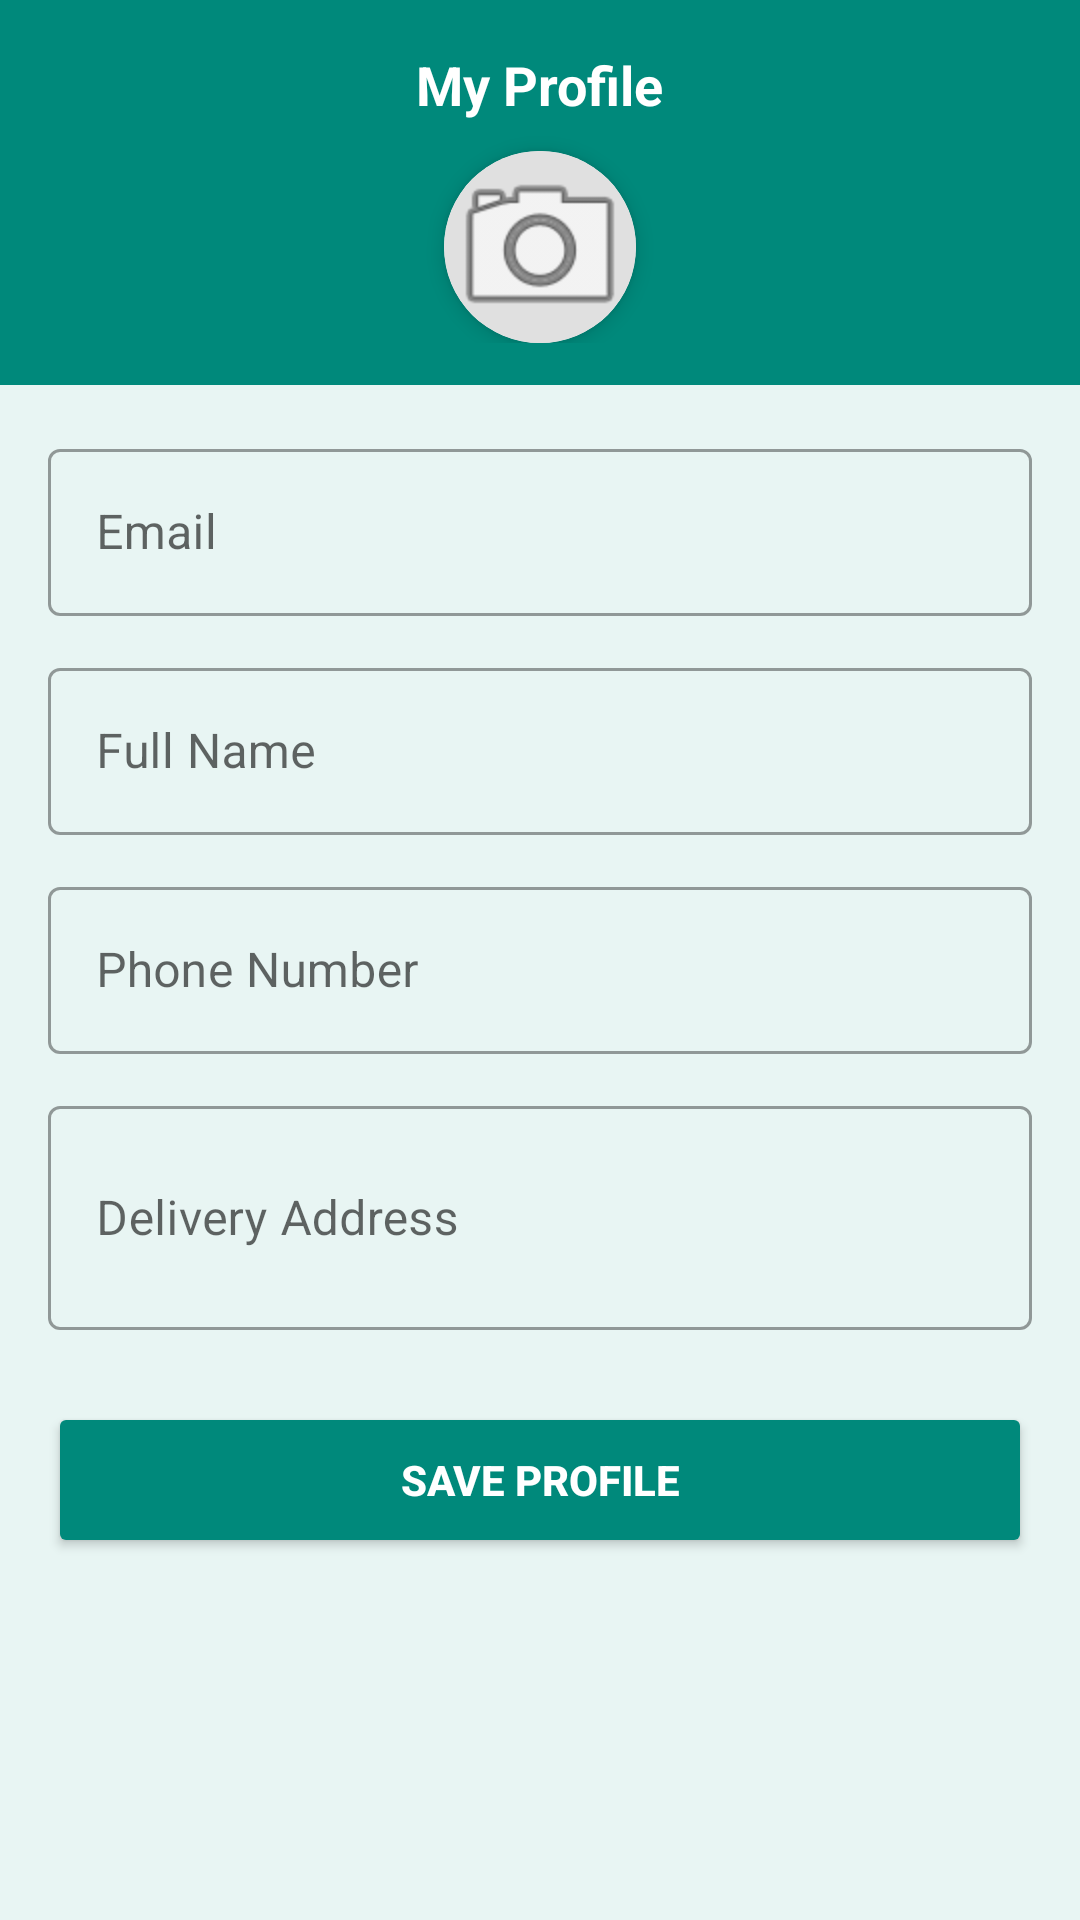

Where icons sit on this 1080px×1920px app screen, as (x1, y1, x2, y2):
camera: (444, 151, 636, 343)
